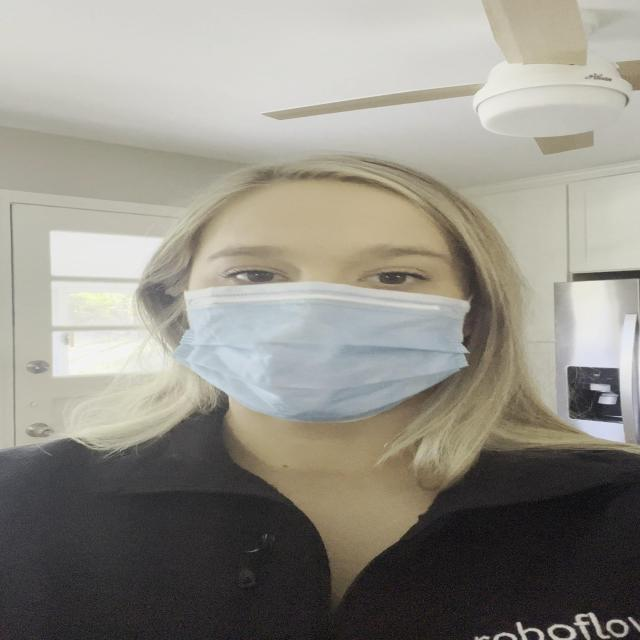no-helmet: (172, 176, 474, 421)
